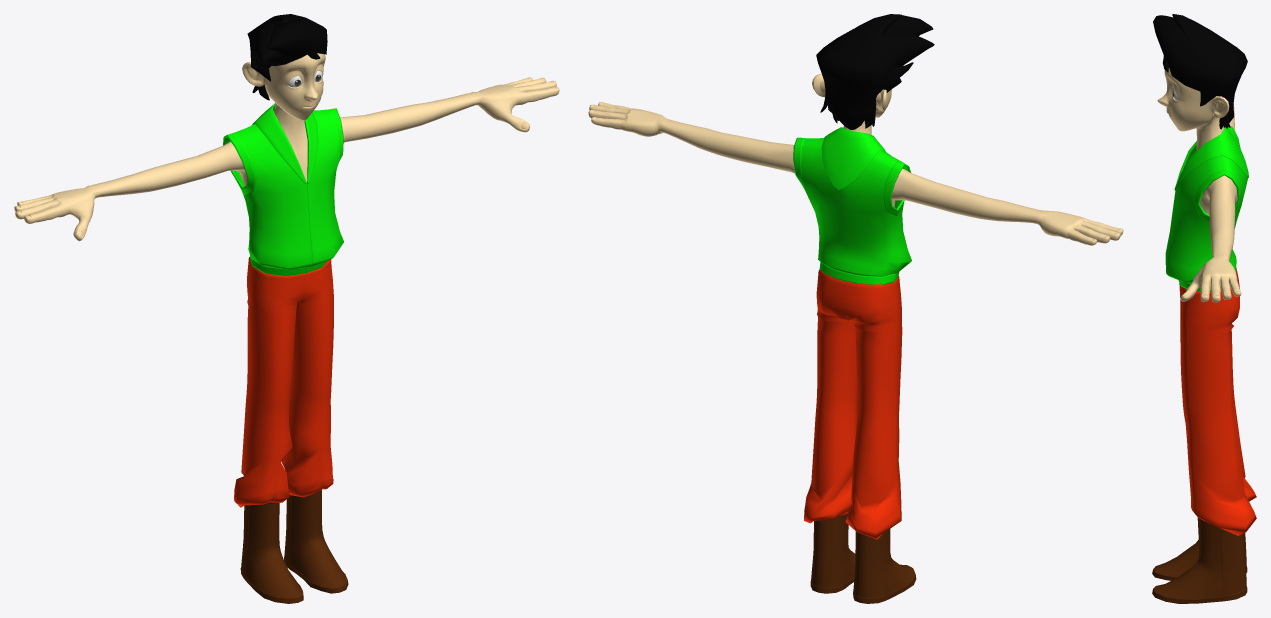
The model's file is boy.obj.
The picture shows the model from 3 angles, left to right: view 1: azimuth 30°, elevation 25°; view 2: azimuth 150°, elevation 25°; view 3: azimuth 270°, elevation 25°; orthographic projection. The views are drawn at different scales.
Parts seen in each view (by area): view 1: boy Boy_pants_ply, boy Boy_body_ply, Boy_jacket_ply boy, boy Boy_shoeRgt_ply, boy Boy_shoeLft_ply, boy Boy_hair_ply; view 2: boy Boy_pants_ply, Boy_jacket_ply boy, boy Boy_body_ply, boy Boy_hair_ply, boy Boy_shoeRgt_ply, boy Boy_shoeLft_ply; view 3: boy Boy_pants_ply, Boy_jacket_ply boy, boy Boy_body_ply, boy Boy_hair_ply, boy Boy_shoeLft_ply, boy Boy_shoeRgt_ply.
Part boxes in pixels (x1,y1,x2,y2): boy Boy_pants_ply: [234, 257, 333, 507]; boy Boy_body_ply: [14, 53, 559, 241]; Boy_jacket_ply boy: [223, 103, 343, 276]; boy Boy_shoeRgt_ply: [240, 502, 303, 603]; boy Boy_shoeLft_ply: [284, 489, 348, 593]; boy Boy_hair_ply: [247, 14, 327, 100]; boy Boy_pants_ply: [804, 269, 902, 539]; Boy_jacket_ply boy: [793, 127, 911, 284]; boy Boy_body_ply: [588, 74, 1123, 245]; boy Boy_hair_ply: [816, 14, 934, 129]; boy Boy_shoeRgt_ply: [853, 529, 916, 603]; boy Boy_shoeLft_ply: [810, 513, 855, 593]; boy Boy_pants_ply: [1179, 266, 1256, 535]; Boy_jacket_ply boy: [1165, 126, 1248, 291]; boy Boy_body_ply: [1157, 68, 1241, 302]; boy Boy_hair_ply: [1153, 14, 1247, 129]; boy Boy_shoeLft_ply: [1152, 517, 1247, 603]; boy Boy_shoeRgt_ply: [1152, 533, 1247, 580].
Size of the model in its own units: 15.28 by 15.59 by 2.64.
